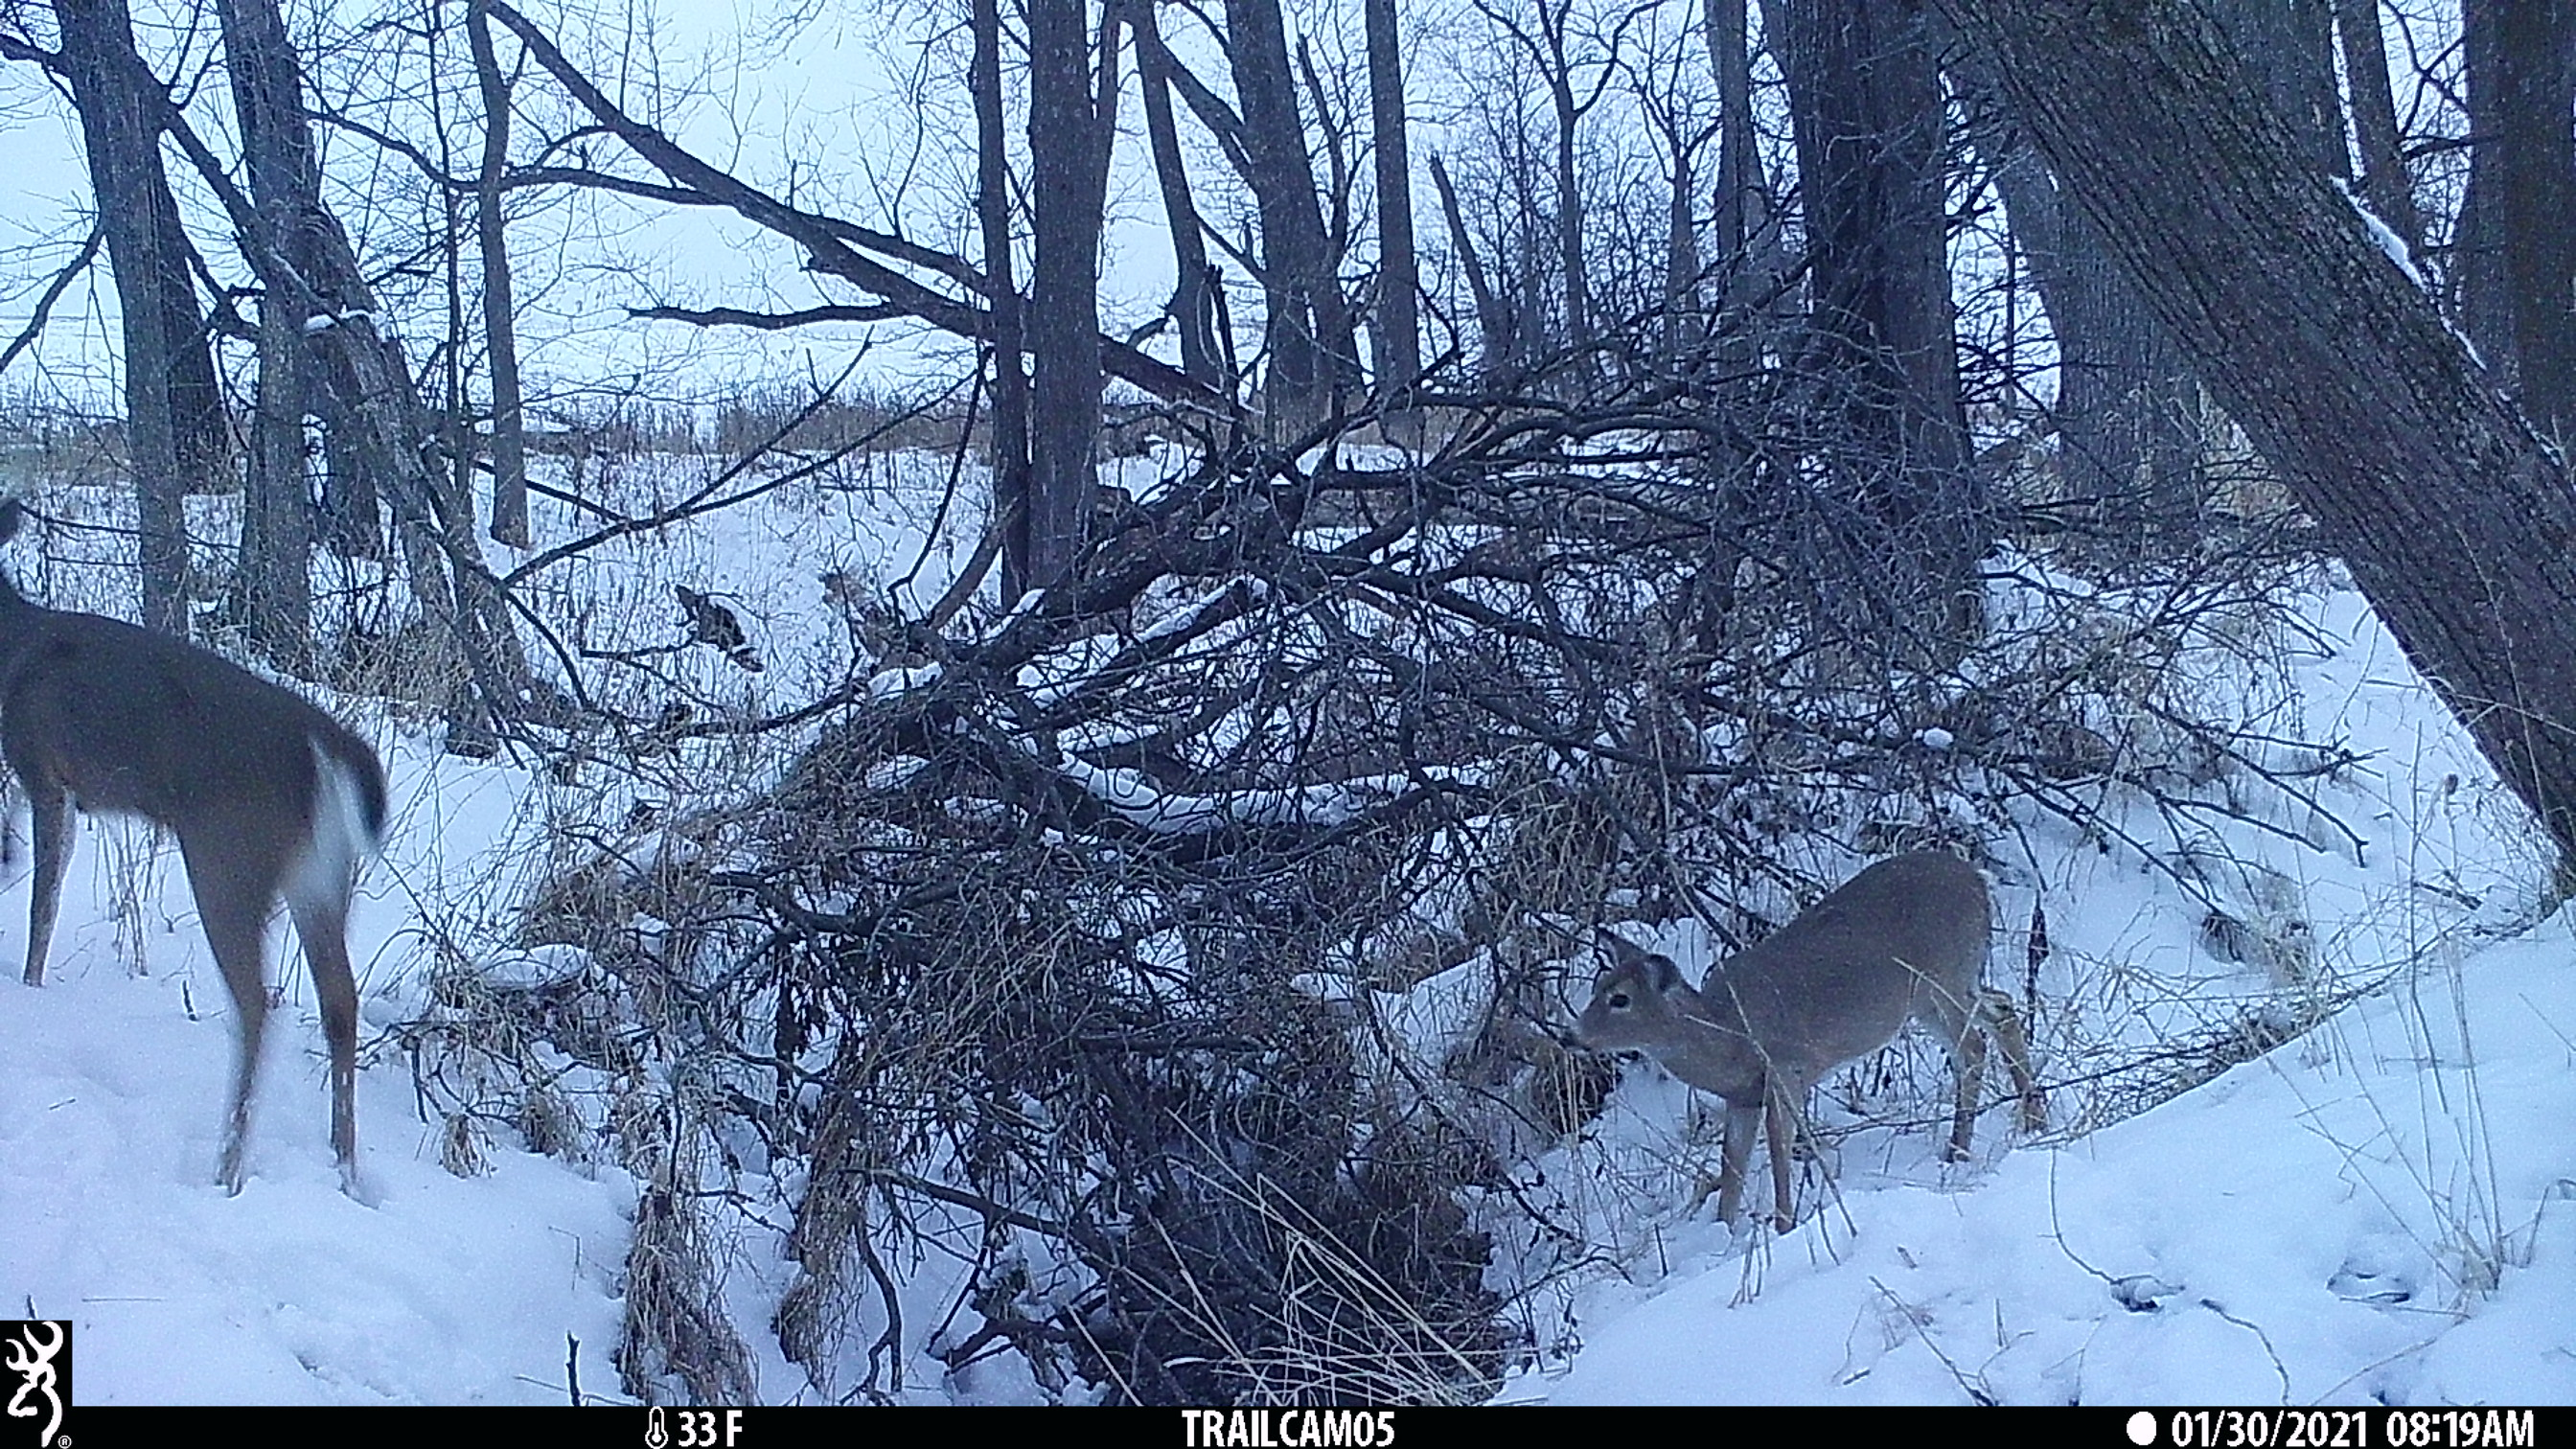Deer: (2, 485, 396, 1173)
DeerDoe: (1555, 847, 2049, 1203)
